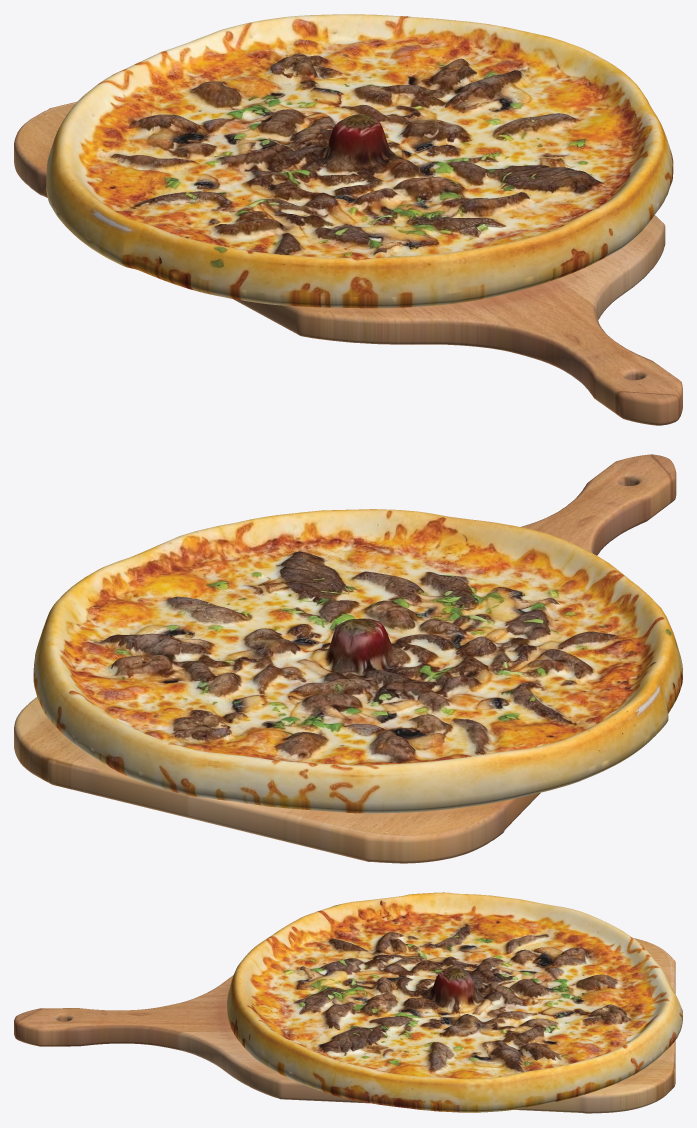
Rendered from pizza-beef-shawerma.glb.
3 renders of one model, top to bottom at view 1: azimuth 30°, elevation 25°; view 2: azimuth 150°, elevation 25°; view 3: azimuth 270°, elevation 25°, orthographic. The views are drawn at different scales.
Visible parts, largest first — view 1: pizza-beef-shawerma, peel.007; view 2: pizza-beef-shawerma, peel.007; view 3: pizza-beef-shawerma, peel.007.
Boxes of the visible parts, box(x1,y1,x2,y2) form: pizza-beef-shawerma: box(46, 14, 673, 308); peel.007: box(14, 101, 682, 425); pizza-beef-shawerma: box(33, 509, 682, 813); peel.007: box(14, 454, 676, 863); pizza-beef-shawerma: box(227, 892, 682, 1112); peel.007: box(14, 938, 675, 1113).
Size of the model in its own units: 0.3059 by 0.0461 by 0.4396.
Materials: 2 (2 with a texture image).
